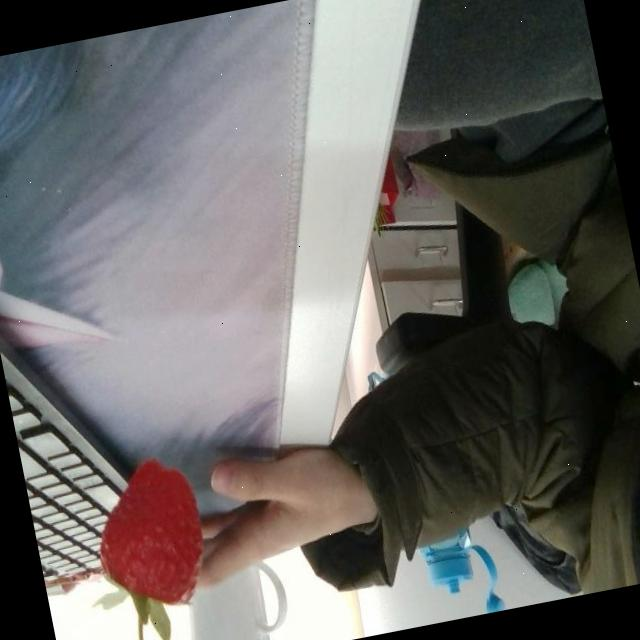strawberry: (84, 452, 217, 622)
